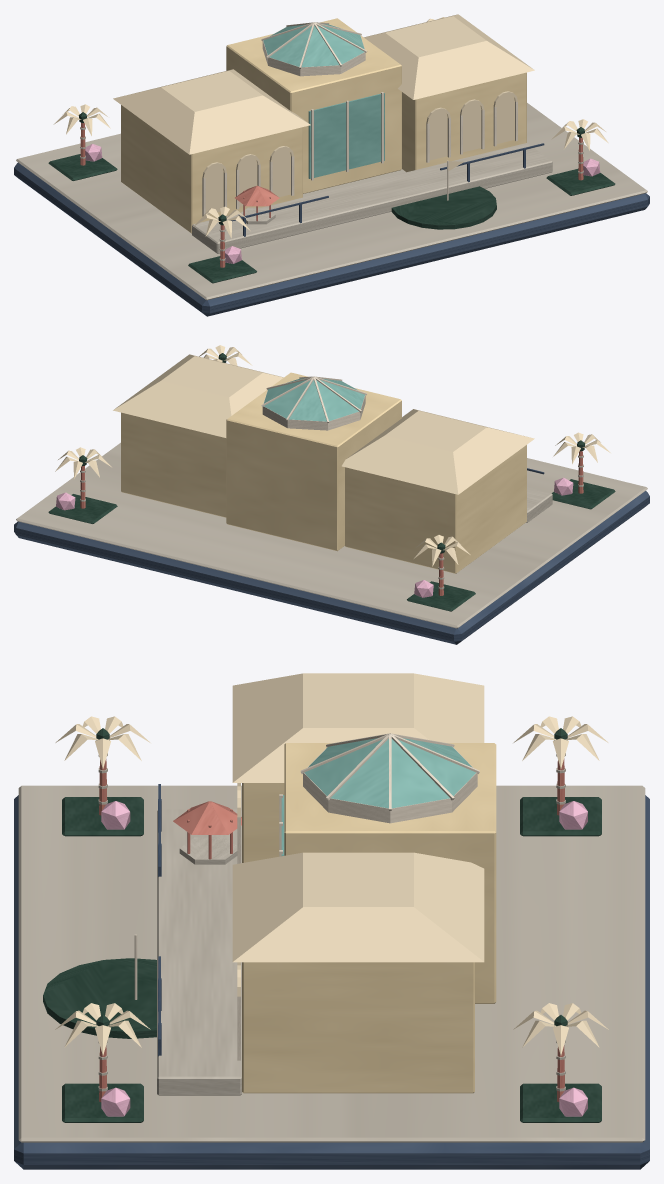
The model's file is katameya-heights-diorama.glb.
The picture shows the model from 3 angles, top to bottom: view 1: azimuth 30°, elevation 25°; view 2: azimuth 150°, elevation 25°; view 3: azimuth 270°, elevation 25°; orthographic projection. The views are drawn at different scales.
Parts seen in each view (by area): view 1: katameya-heights; view 2: katameya-heights; view 3: katameya-heights.
Part boxes in pixels (x1,y1,x2,y2): katameya-heights: (14, 14, 649, 316); katameya-heights: (14, 345, 649, 644); katameya-heights: (14, 673, 649, 1169).
Size of the model in its own units: 16 by 5.42 by 12.
Materials: 1 (1 with a texture image).
